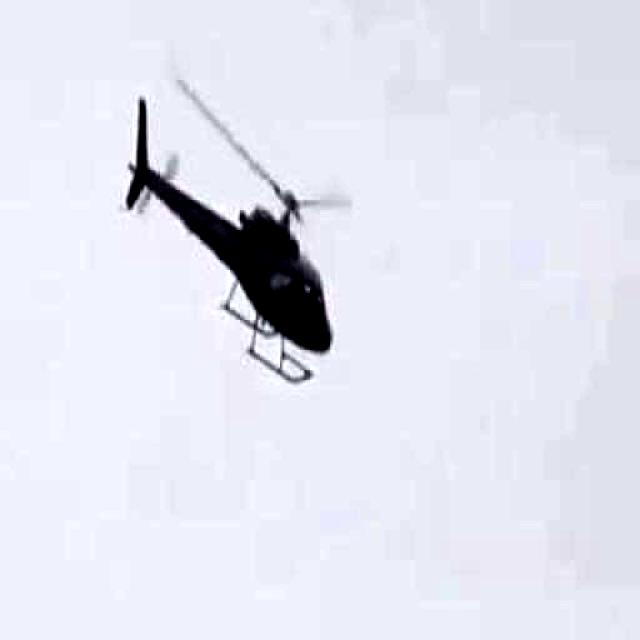drone: (104, 79, 374, 415)
